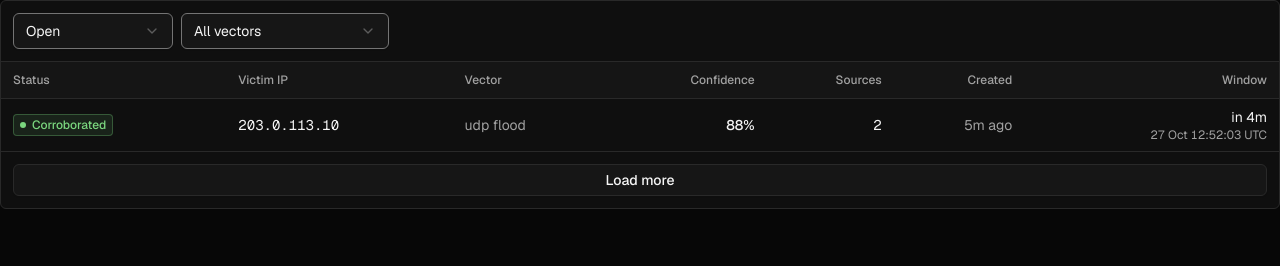
Test: GroupsTab › keeps Load more usable while a background poll revalidates loaded pages
The image size is (1280, 266).
Click the button "Load more".
click(640, 180)  # box [13,164,1267,196]
Wait 5000 ms
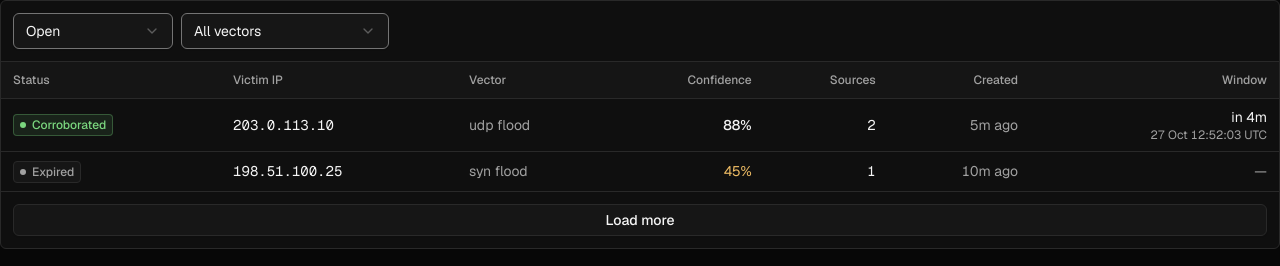
Expected: the button "Load more" is enabled, [13,204,1267,236]
Expected: the link "198.51.100.25" is shown, [233,162,342,180]
